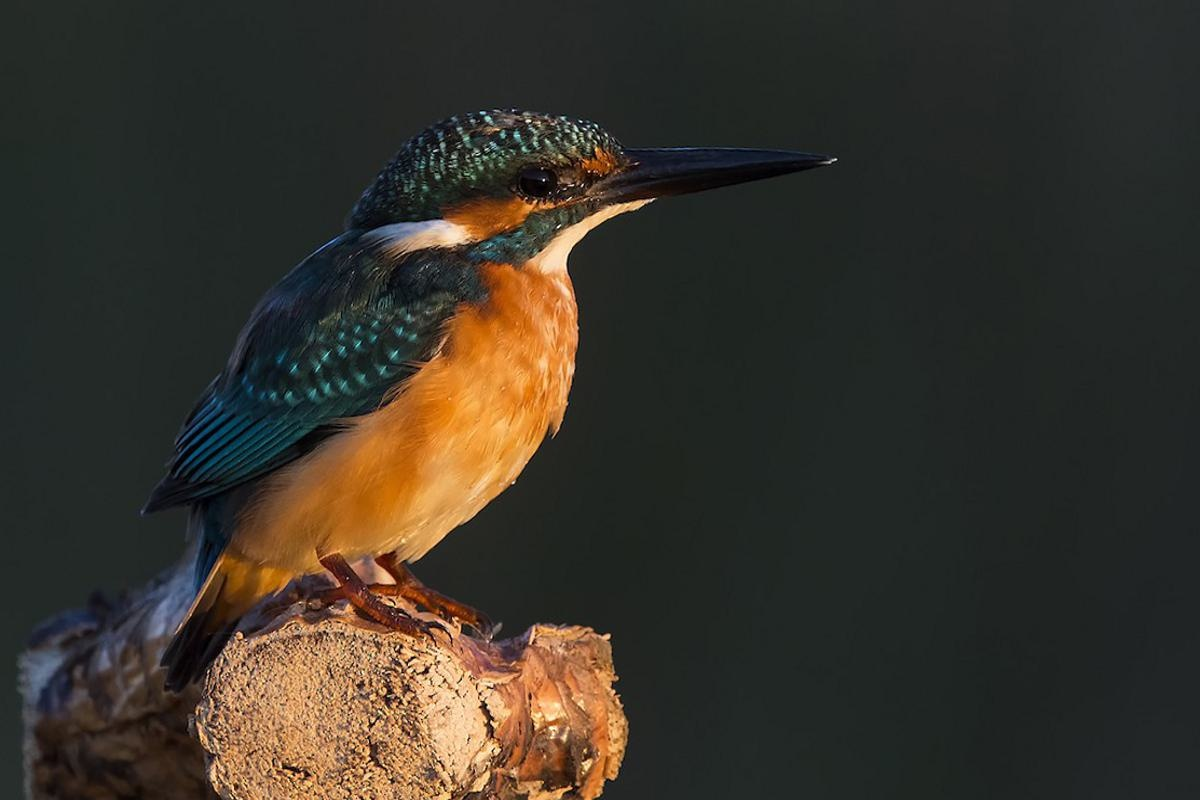kingfisher: (112, 97, 879, 645)
